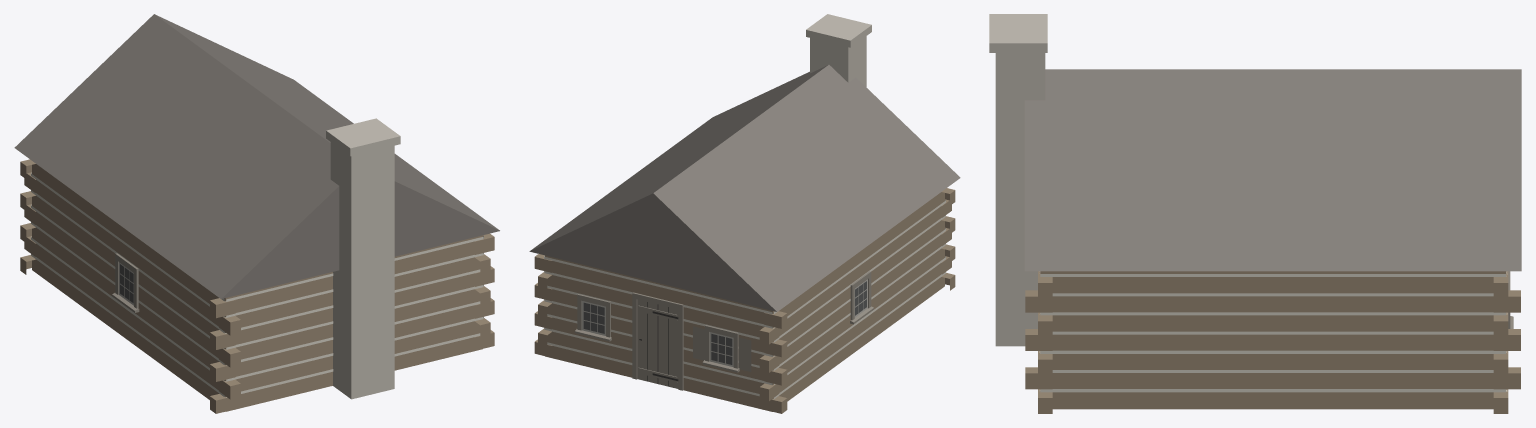
The model's file is recon_1835_blk_randolph_dearborn_d1_16__inferred_1835.glb.
The picture shows the model from 3 angles, left to right: view 1: azimuth 30°, elevation 25°; view 2: azimuth 150°, elevation 25°; view 3: azimuth 270°, elevation 25°; orthographic projection. The views are drawn at different scales.
Parts seen in each view (by area): view 1: recon_1835_blk_randolph_dearborn_d1_16__inferred_1835; view 2: recon_1835_blk_randolph_dearborn_d1_16__inferred_1835; view 3: recon_1835_blk_randolph_dearborn_d1_16__inferred_1835.
Part boxes in pixels (left/top/right/bottom): recon_1835_blk_randolph_dearborn_d1_16__inferred_1835: left=14, top=14, right=499, bottom=413; recon_1835_blk_randolph_dearborn_d1_16__inferred_1835: left=529, top=14, right=960, bottom=413; recon_1835_blk_randolph_dearborn_d1_16__inferred_1835: left=989, top=14, right=1521, bottom=413.
Size of the model in its own units: 6.24 by 5.41 by 8.56.
